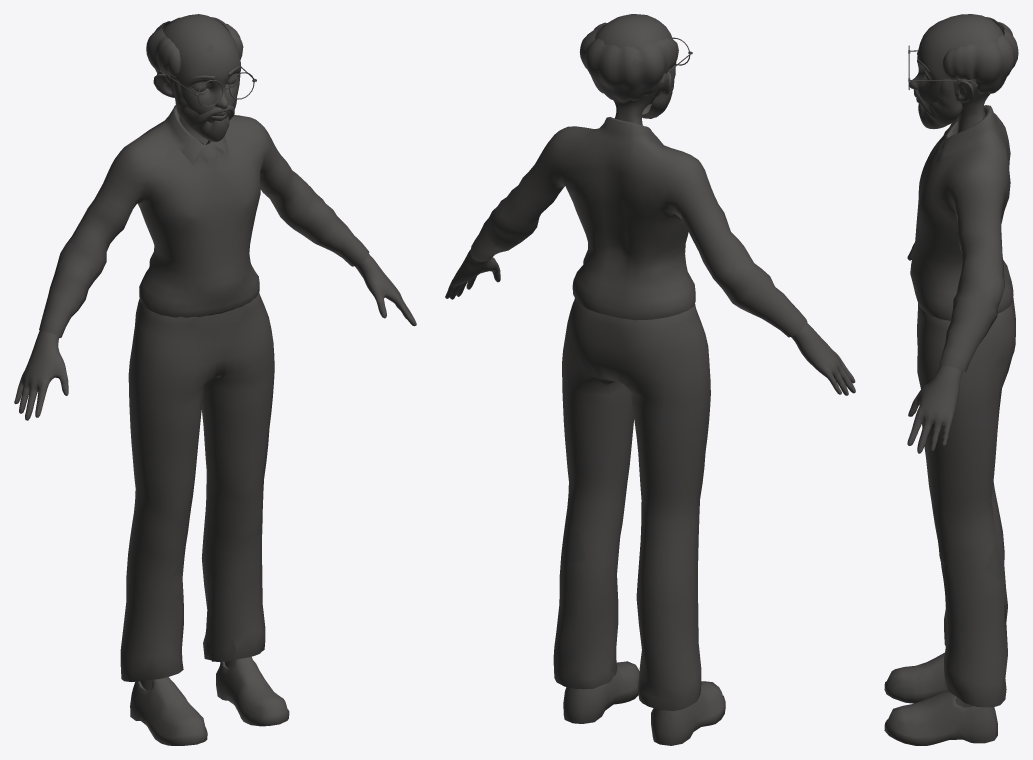
Rendered from PrinterMan_Mesh.obj.
3 renders of one model, left to right at view 1: azimuth 30°, elevation 25°; view 2: azimuth 150°, elevation 25°; view 3: azimuth 270°, elevation 25°, orthographic. The views are drawn at different scales.
Parts seen in each view (by area): view 1: PrinterMan_Mesh_0; view 2: PrinterMan_Mesh_0; view 3: PrinterMan_Mesh_0.
Boxes of the visible parts, left/top/right/bottom form: PrinterMan_Mesh_0: left=14, top=14, right=416, bottom=745; PrinterMan_Mesh_0: left=445, top=14, right=855, bottom=745; PrinterMan_Mesh_0: left=884, top=14, right=1018, bottom=745.
Size of the model in its own units: 1.06 by 1.79 by 0.3105.
1 material, 1 textured.
